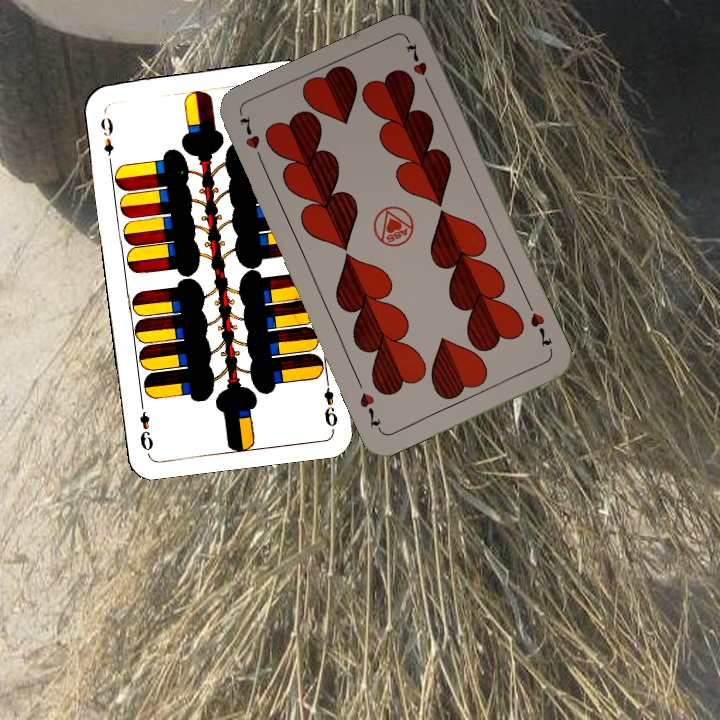E9: (319, 372, 341, 429), (96, 114, 116, 166)
H7: (235, 112, 266, 167), (526, 309, 555, 350)
